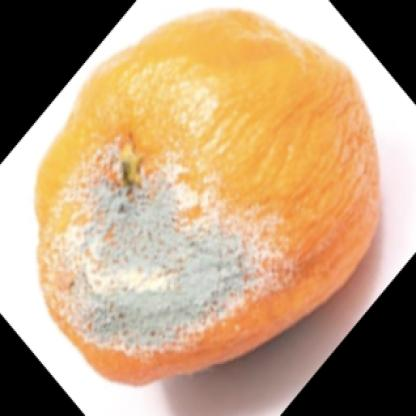rotten: (35, 9, 381, 378)
